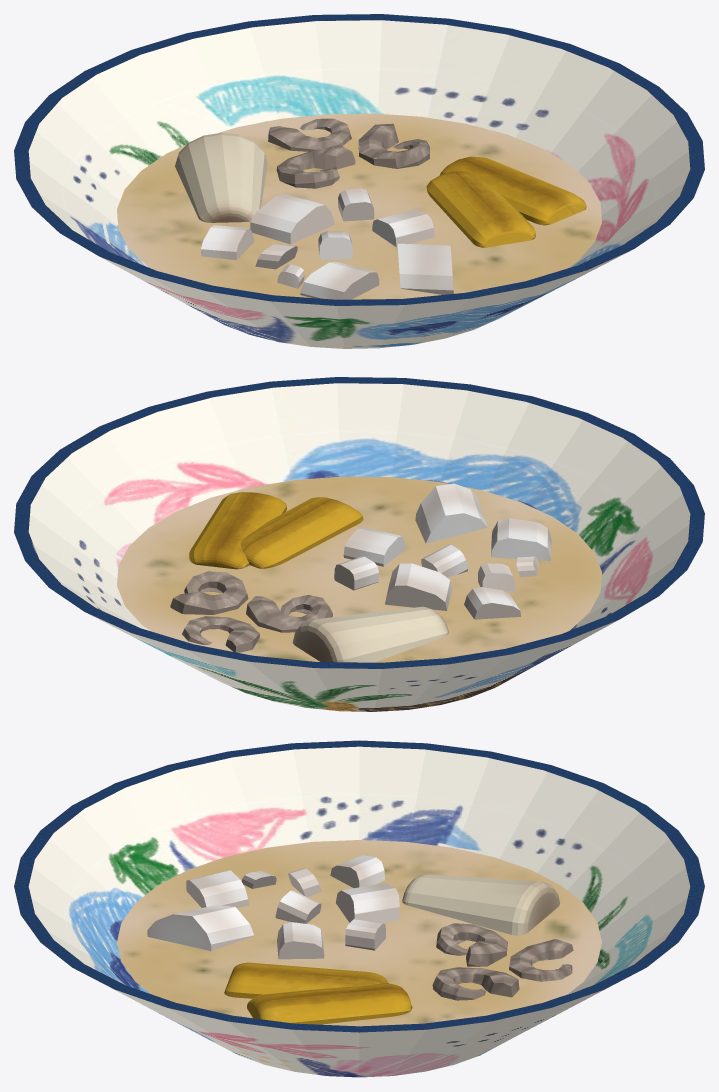
File: rondon en plato.fbx
3 views of the same model, one above another, from view 1: azimuth 30°, elevation 25°; view 2: azimuth 150°, elevation 25°; view 3: azimuth 270°, elevation 25° (orthographic).
Parts seen in each view (by area): view 1: Cylinder, Cylinder.001, Cube.005, Cylinder.003, Cylinder.004, Cylinder.002, Vuelta_04, Vuelta_04.001, Vuelta_04.002; view 2: Cylinder, Cylinder.001, Cube.005, Cylinder.003, Cylinder.004, Cylinder.002, Vuelta_04.001, Vuelta_04, Vuelta_04.002; view 3: Cylinder, Cylinder.001, Cube.005, Cylinder.003, Cylinder.002, Cylinder.004, Vuelta_04.001, Vuelta_04, Vuelta_04.002.
Part boxes in pixels (box(x1,y1,x2,y2)): Cylinder: box(14, 14, 704, 348); Cylinder.001: box(117, 113, 601, 299); Cube.005: box(201, 188, 453, 299); Cylinder.003: box(175, 132, 267, 222); Cylinder.004: box(426, 171, 535, 247); Cylinder.002: box(440, 156, 586, 225); Vuelta_04: box(276, 145, 355, 188); Vuelta_04.001: box(358, 123, 429, 168); Vuelta_04.002: box(268, 118, 351, 151); Cylinder: box(14, 377, 704, 711); Cylinder.001: box(117, 476, 601, 662); Cube.005: box(334, 483, 551, 619); Cylinder.003: box(292, 606, 448, 662); Cylinder.004: box(240, 497, 363, 568); Cylinder.002: box(189, 492, 286, 569); Vuelta_04.001: box(170, 571, 248, 614); Vuelta_04: box(246, 595, 332, 632); Vuelta_04.002: box(182, 616, 259, 652); Cylinder: box(14, 740, 704, 1077); Cylinder.001: box(117, 840, 601, 1026); Cube.005: box(147, 855, 399, 959); Cylinder.003: box(402, 874, 560, 935); Cylinder.002: box(247, 983, 412, 1024); Cylinder.004: box(224, 962, 388, 998); Vuelta_04.001: box(432, 967, 519, 1000); Vuelta_04: box(436, 923, 507, 966); Vuelta_04.002: box(509, 939, 573, 981).
Size of the model in its own units: 90.91 by 16.78 by 90.91.
9 materials, 9 textured.
